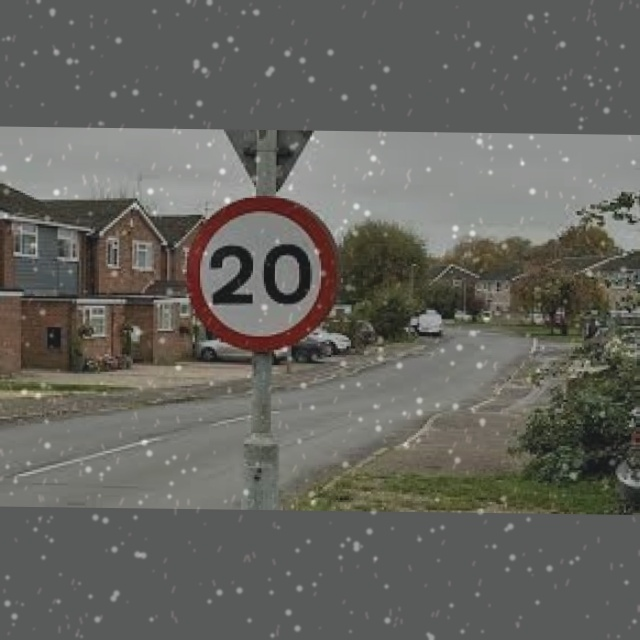Speed_Limit_20: (185, 195, 339, 349)
